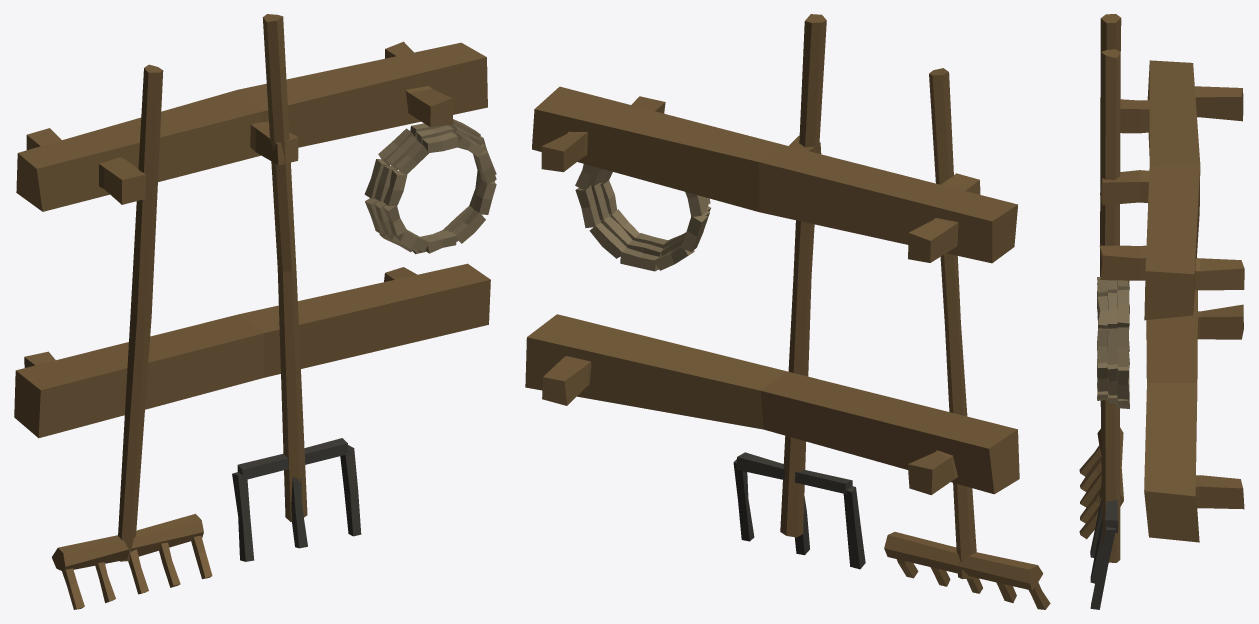
Rendered from farm_Tool_rack.glb.
3 renders of one model, left to right at view 1: azimuth 30°, elevation 25°; view 2: azimuth 150°, elevation 25°; view 3: azimuth 270°, elevation 25°, orthographic. The views are drawn at different scales.
Parts seen in each view (by area): view 1: farm_Tool_rack.001; view 2: farm_Tool_rack.001; view 3: farm_Tool_rack.001.
Part boxes in pixels (x1,y1,x2,y2): farm_Tool_rack.001: [14, 14, 496, 609]; farm_Tool_rack.001: [525, 14, 1050, 609]; farm_Tool_rack.001: [1079, 14, 1244, 609].
Size of the model in its own units: 1.27 by 1.43 by 0.4087.
